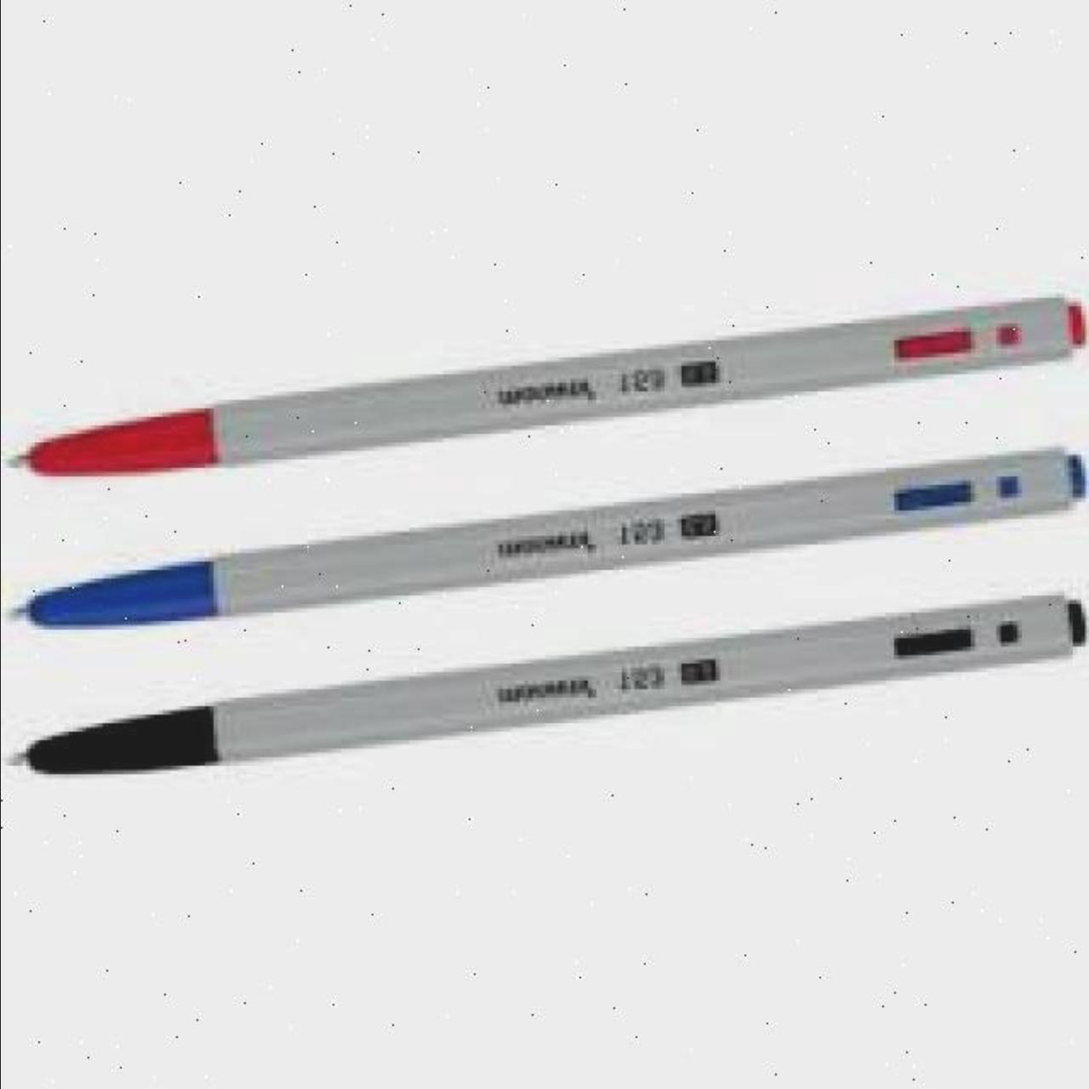pen: (9, 577, 1089, 769)
